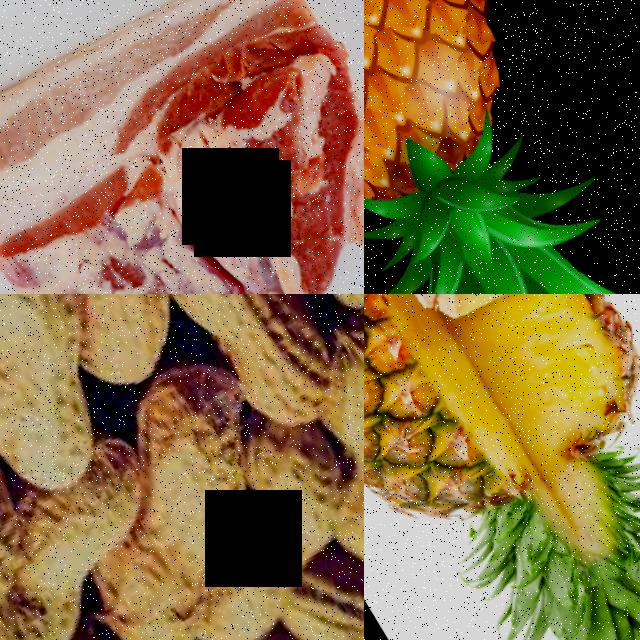peanuts: (93, 347, 291, 557), (132, 294, 354, 450), (0, 294, 140, 506), (67, 515, 237, 640), (0, 361, 51, 631), (0, 550, 103, 640)
pineapple: (364, 294, 640, 640), (364, 0, 620, 294)
pork belly: (0, 0, 364, 294)
